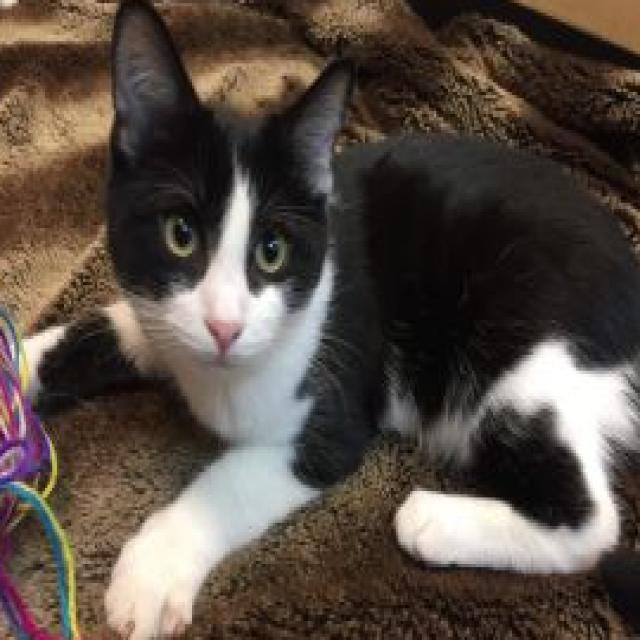Tuxedo: (12, 0, 640, 640)
